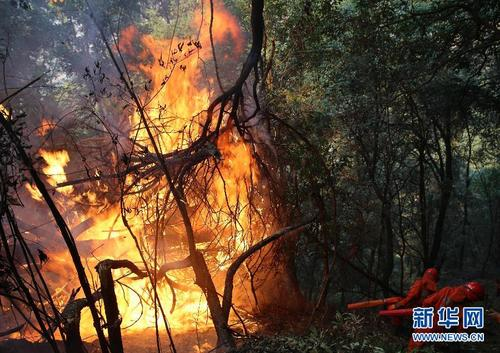fire: (92, 223, 213, 338), (144, 41, 204, 148), (215, 160, 256, 258), (49, 251, 98, 298), (39, 149, 76, 192)
smoke: (27, 7, 112, 106)
